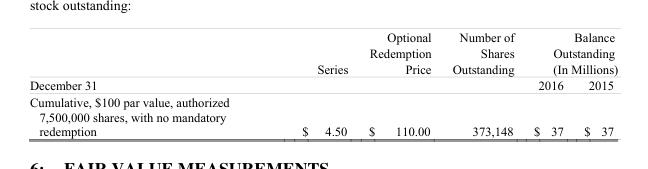table: (28, 29, 617, 138)
table column: (28, 29, 264, 138), (264, 29, 357, 138), (357, 29, 441, 138), (441, 29, 523, 138), (523, 29, 573, 138), (573, 29, 617, 138)
table column header: (28, 29, 617, 93)
table row: (28, 29, 617, 76), (28, 93, 617, 138), (28, 76, 617, 93)
table spanning cell: (28, 29, 264, 93), (264, 29, 357, 93), (357, 29, 441, 93), (441, 29, 523, 93), (523, 29, 617, 76)
